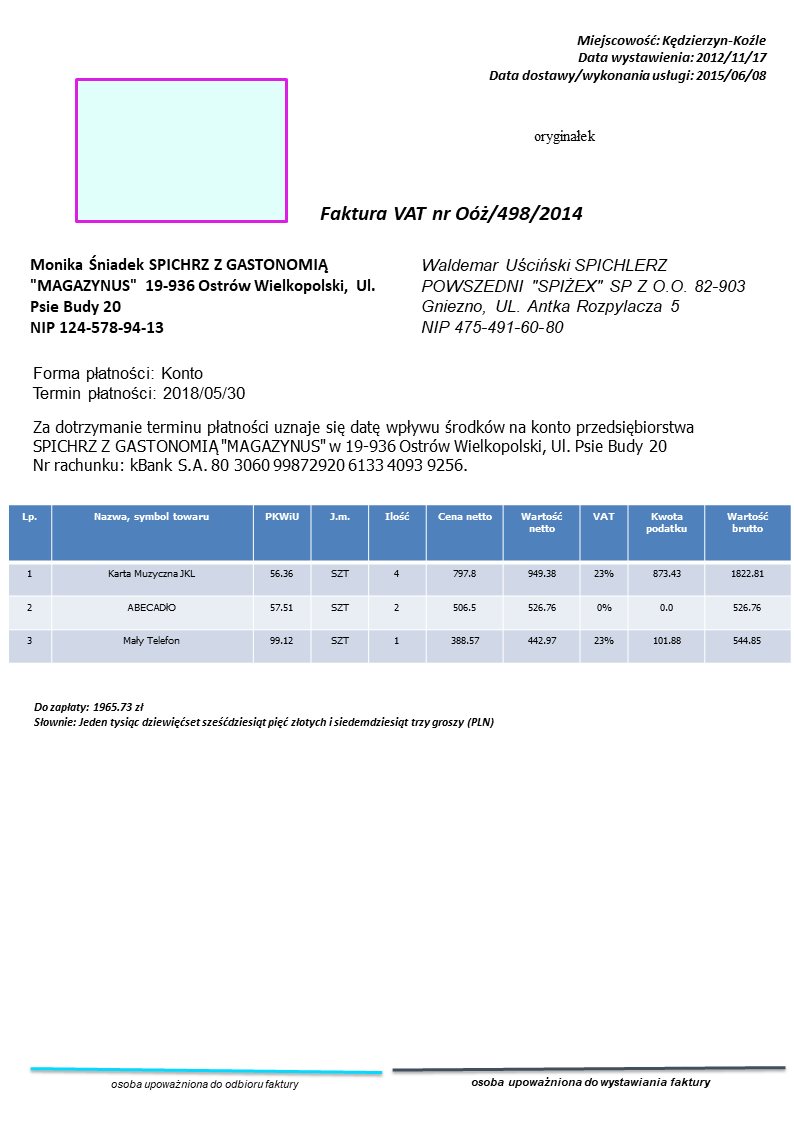Table: (8, 504, 794, 664)
TextBox: (30, 415, 696, 474), (28, 255, 377, 336), (419, 253, 746, 337), (486, 31, 769, 87), (31, 699, 498, 732), (29, 362, 247, 405), (318, 204, 586, 225), (468, 1075, 712, 1091), (107, 1076, 300, 1093), (531, 127, 597, 146)
